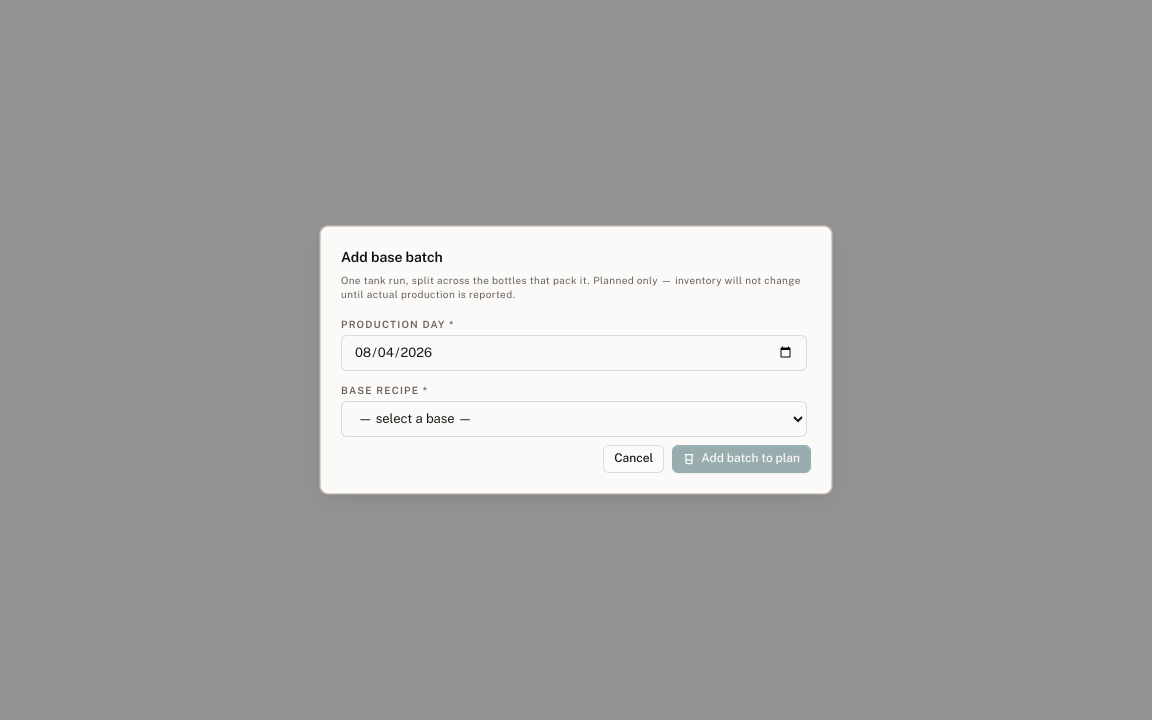
Test: AddBatchModal › A4 — the liters meter tracks qty × fill vs tank size
The width and height of the screenshot is (1152, 720).
Select "CALM" in the dropdown with test id "add-batch-base": (574, 419) [341,401,807,437]
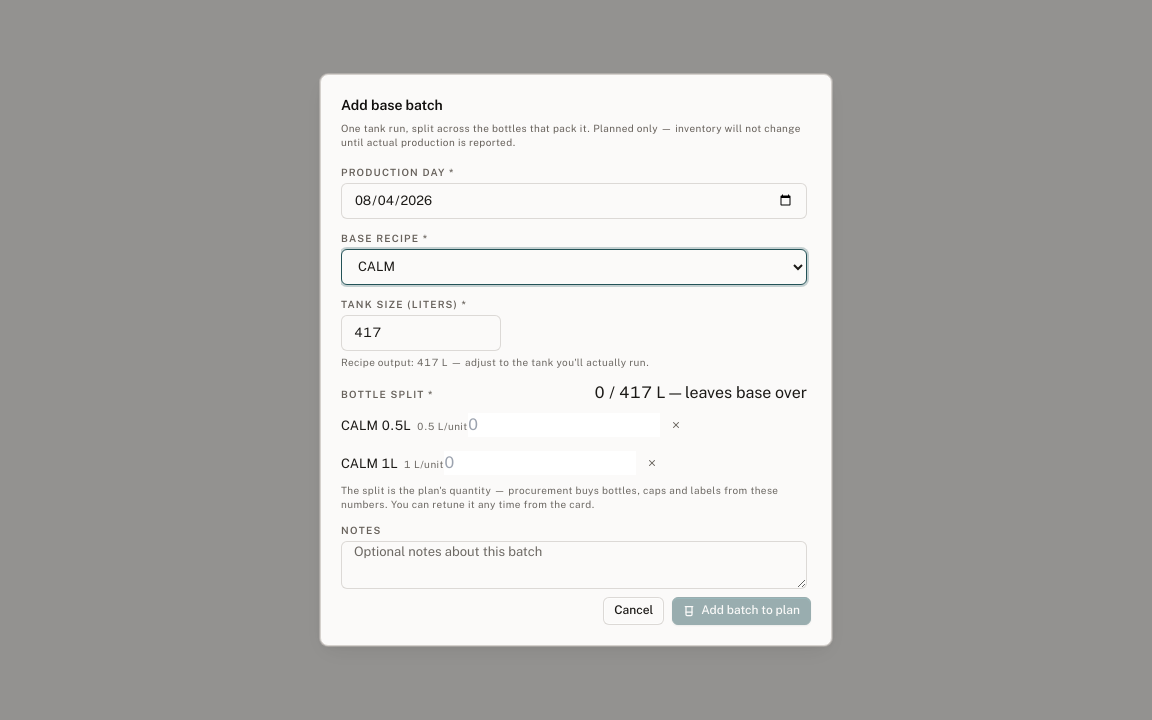
Replace the text in the number field with test id "add-batch-size" with "500": (421, 333) [341,315,501,351]
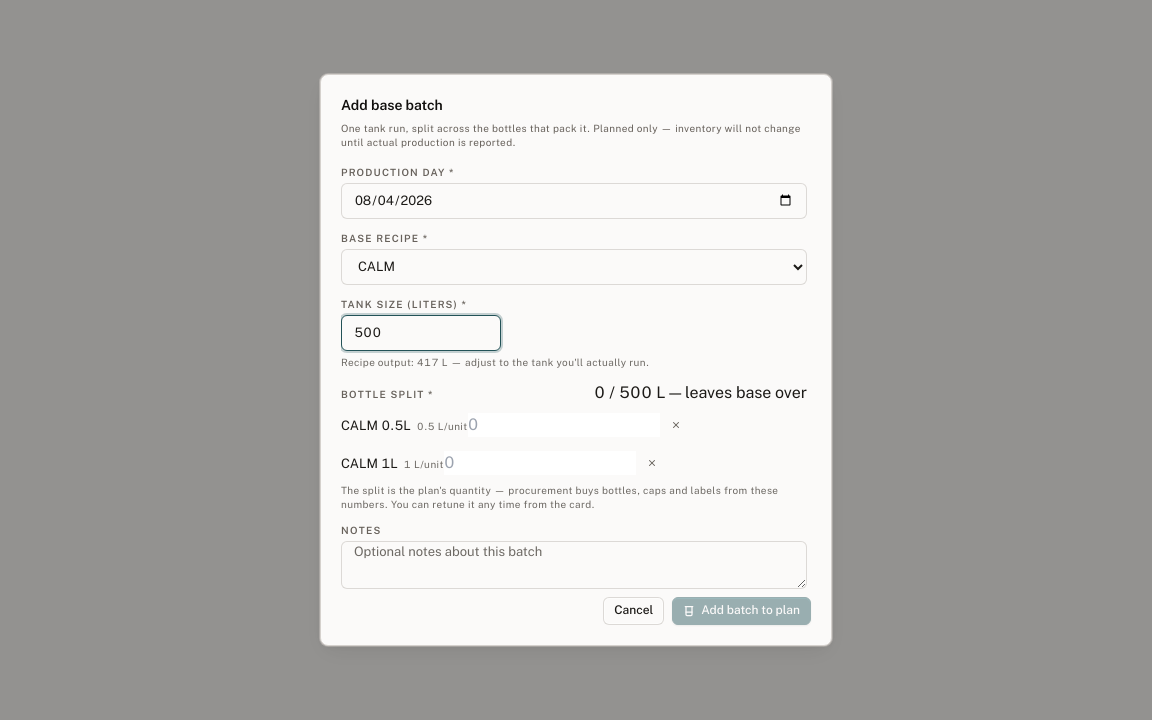
In the number field with test id "add-batch-qty-FG-CAL-1L": (540, 463) [444,451,636,475], type "400"
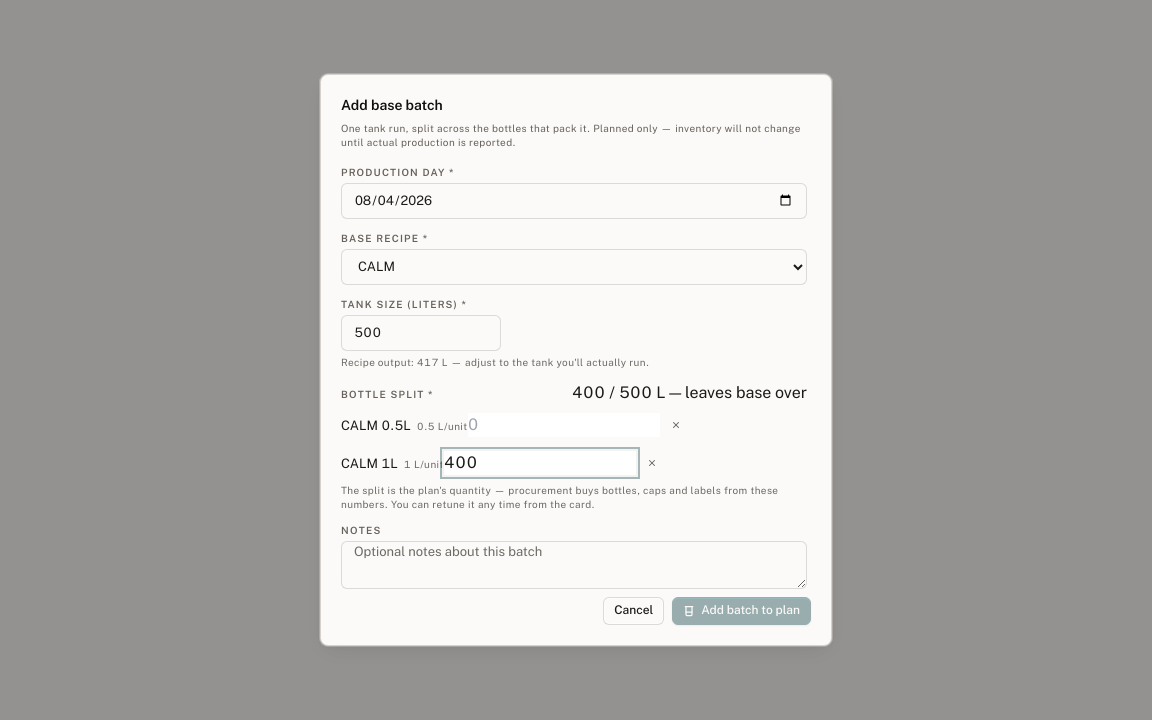
In the number field with test id "add-batch-qty-FG-CAL-500ML": (564, 425) [468,413,660,437], type "200"
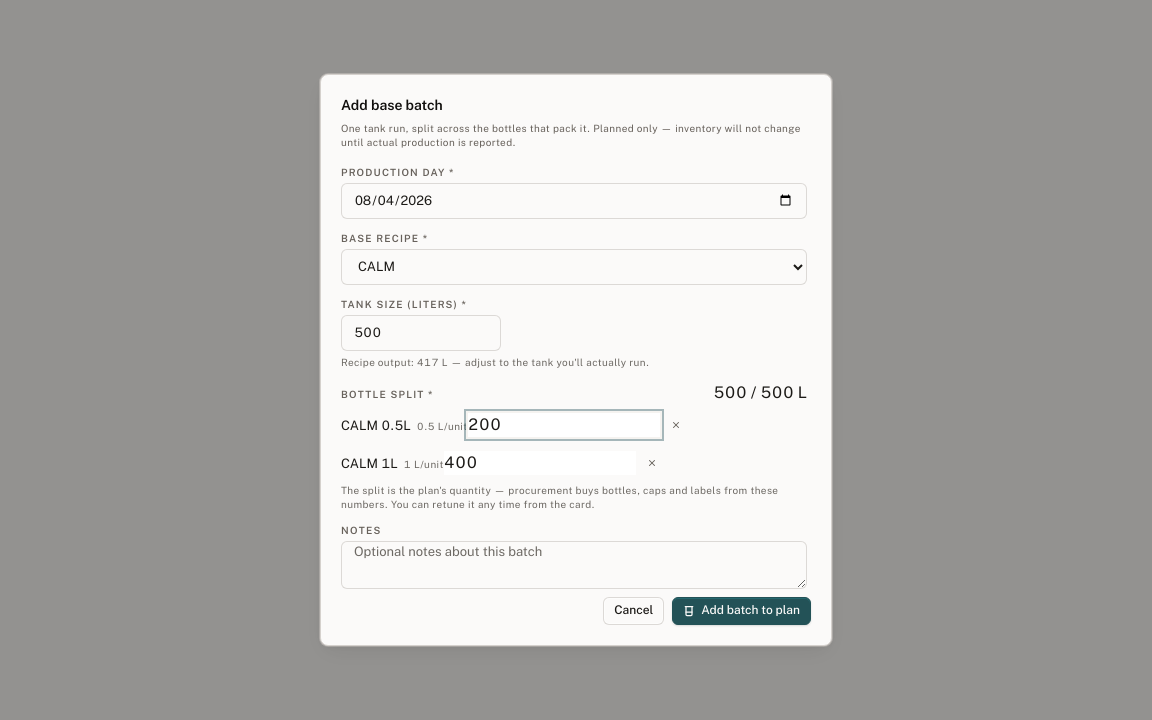
Expected: the message with test id "add-batch-meter" reads "500 / 500 L", [713,383,807,402]
